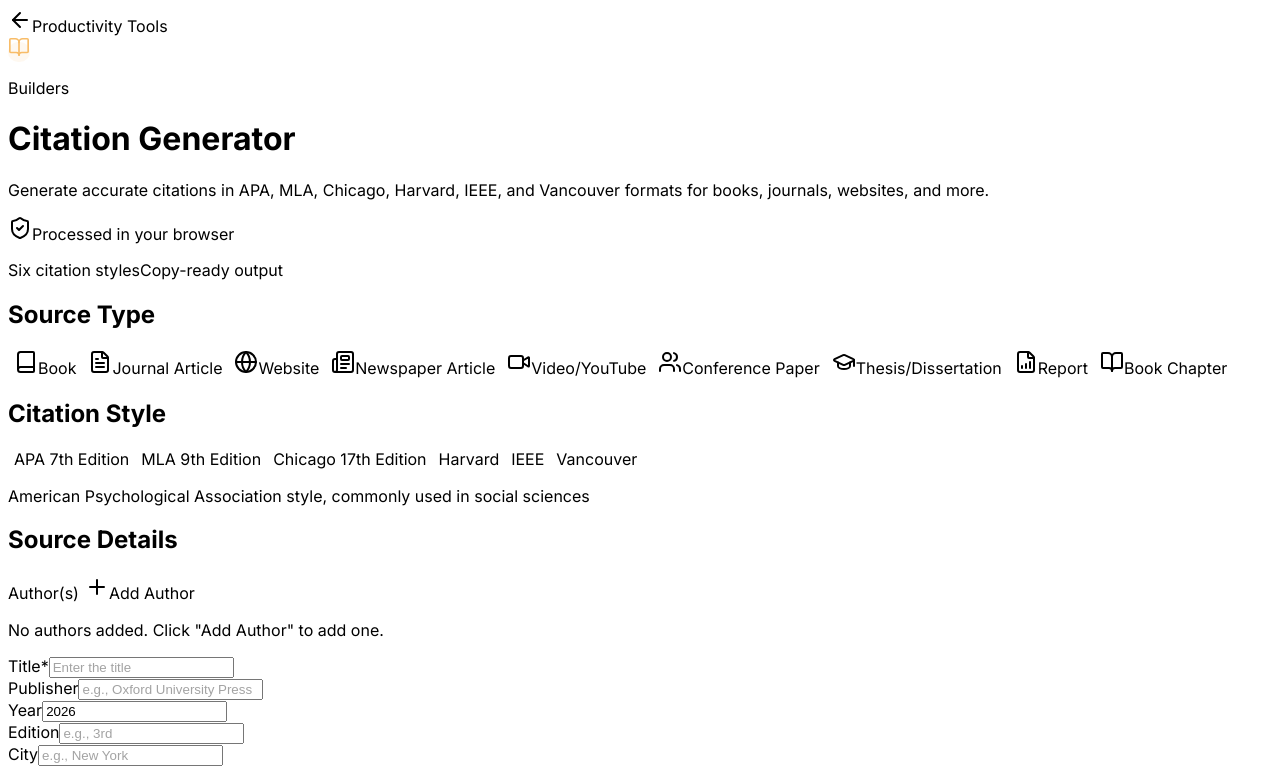
CitationGeneratorPage › Source Type Selection › changes form fields when selecting different source types
// Select website - should show URL field
What coordinates should you click on to do the following:
click the button "Website"
I would click on:
 (277, 364)
Its box is [228,349,325,379].
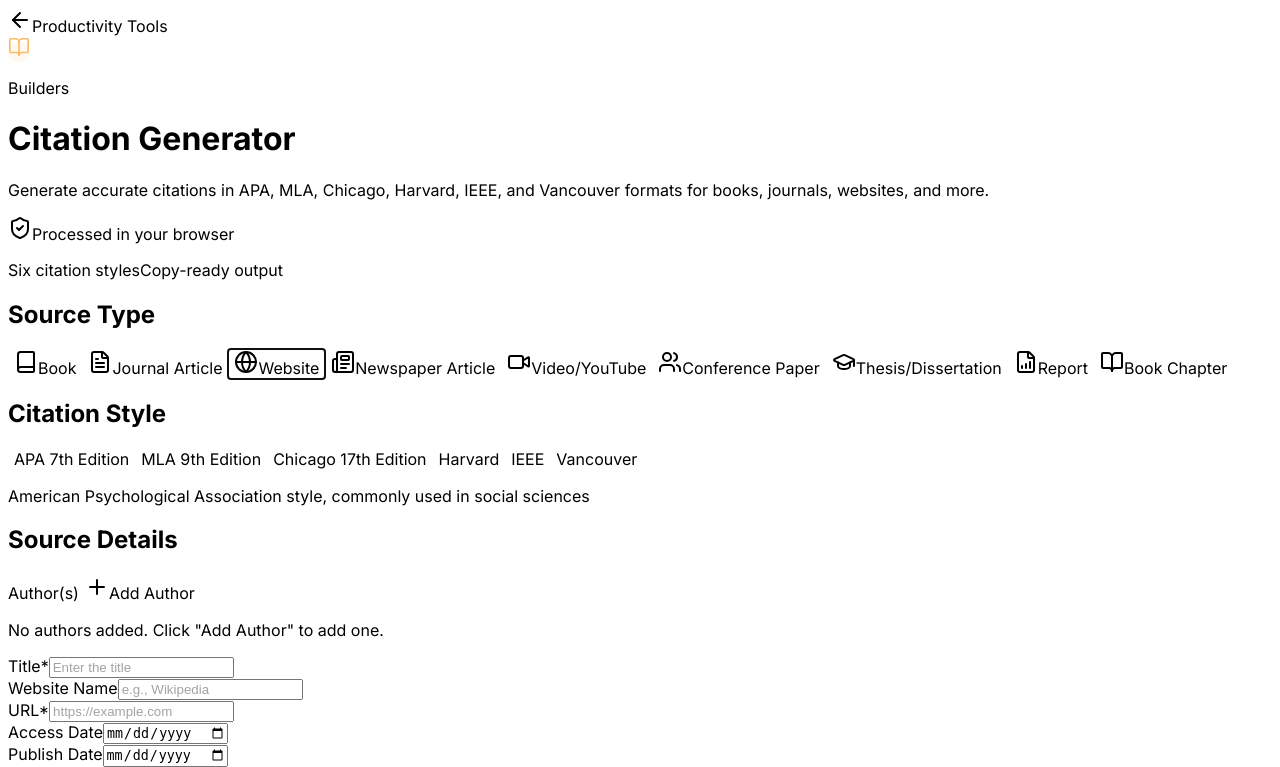
Check: the field labelled "URL*" is shown, box [49,701,234,722]
// Select journal - should show journal name, volume, issue
What coordinates should you click on to do the following:
click the button "Journal Article"
I would click on:
 (155, 364)
Its box is [82,349,228,379].
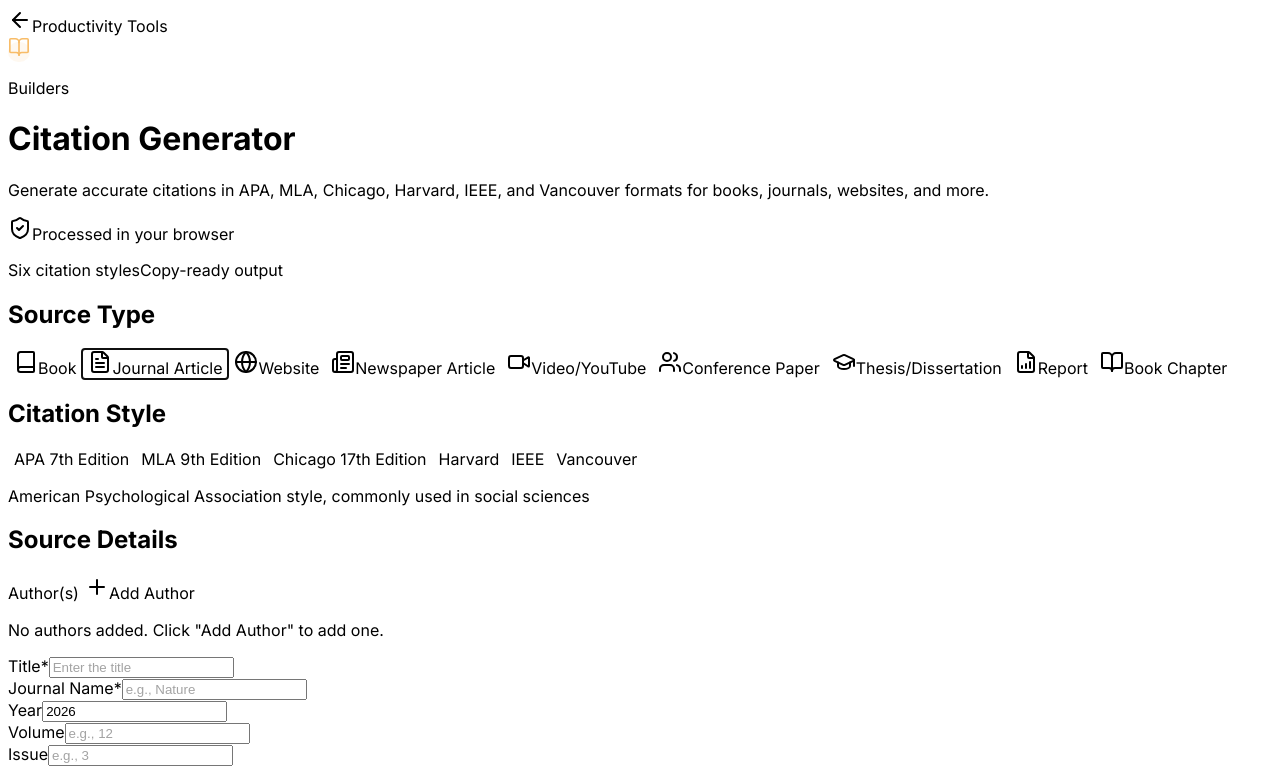
Check: the field labelled "Journal Name*" is shown, box [122,679,307,700]
